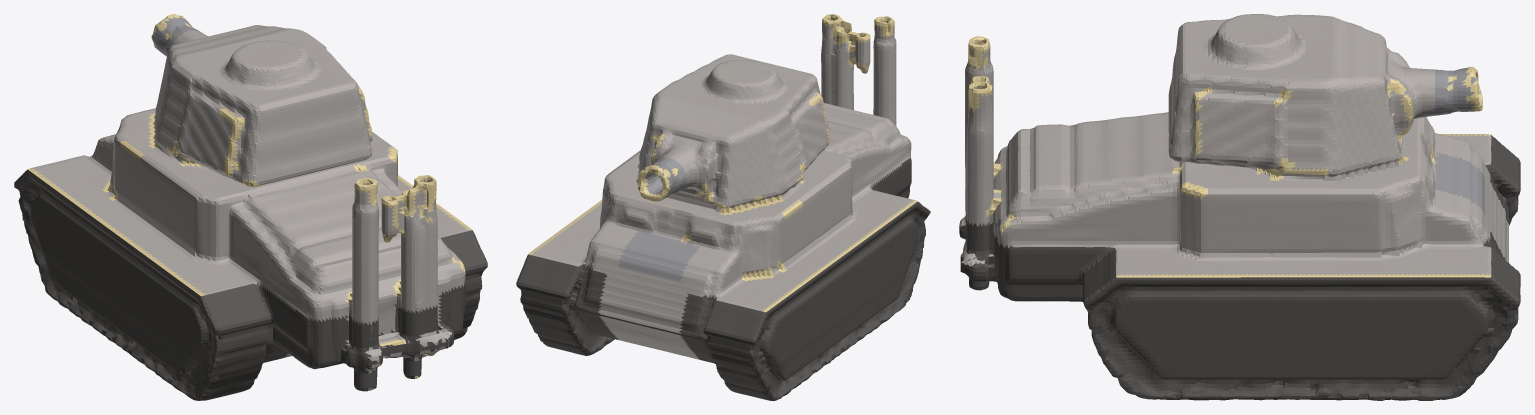
Rendered from unit_juggernaut.glb.
3 views of the same model, side by side, from view 1: azimuth 30°, elevation 25°; view 2: azimuth 150°, elevation 25°; view 3: azimuth 270°, elevation 25° (orthographic). The views are drawn at different scales.
Visible parts, largest first — view 1: Mesh_0.062; view 2: Mesh_0.062; view 3: Mesh_0.062.
Part boxes in pixels (x1,y1,x2,y2): Mesh_0.062: [14, 14, 487, 400]; Mesh_0.062: [516, 14, 930, 400]; Mesh_0.062: [959, 14, 1520, 400].
Bounding box in the file's own units: 3.17 × 3.09 × 5.2.
